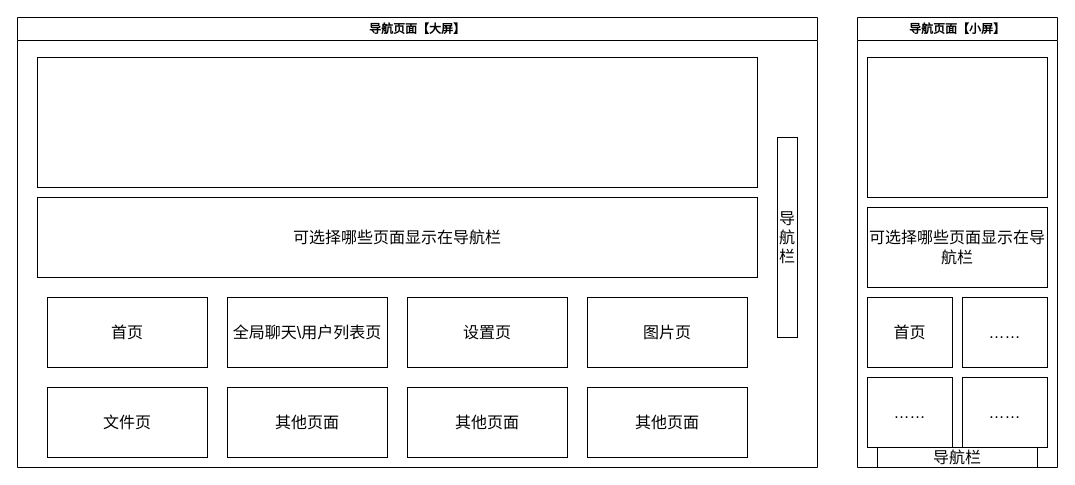
Some shapes in this 1075 by 485 pixel diagram are drawn without their labels. Here are the shapes that lost their labels. From the top down, the centre of each, then its label:
point (397, 122): 用户信息、网站标题、明暗切换、语言切换
point (957, 127): 用户信息 网站标题 明暗切换 语言切换
